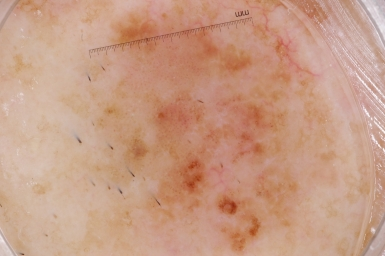seborrheic keratosis: (91, 63, 320, 225)
